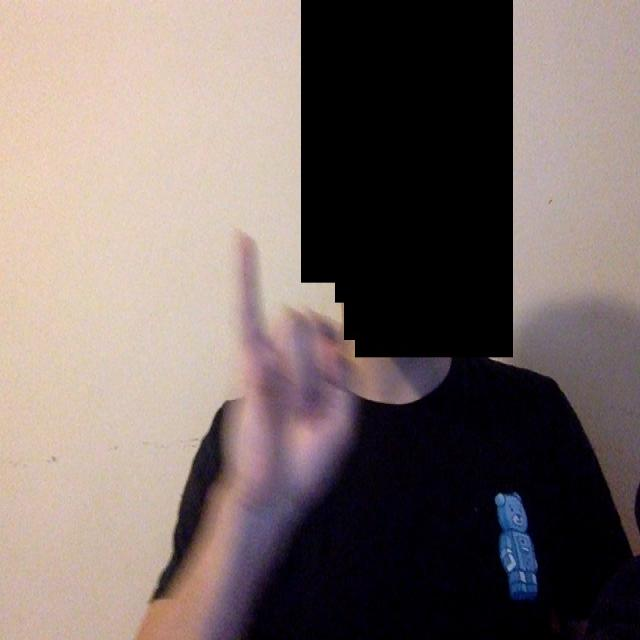I: (212, 199, 368, 539)
